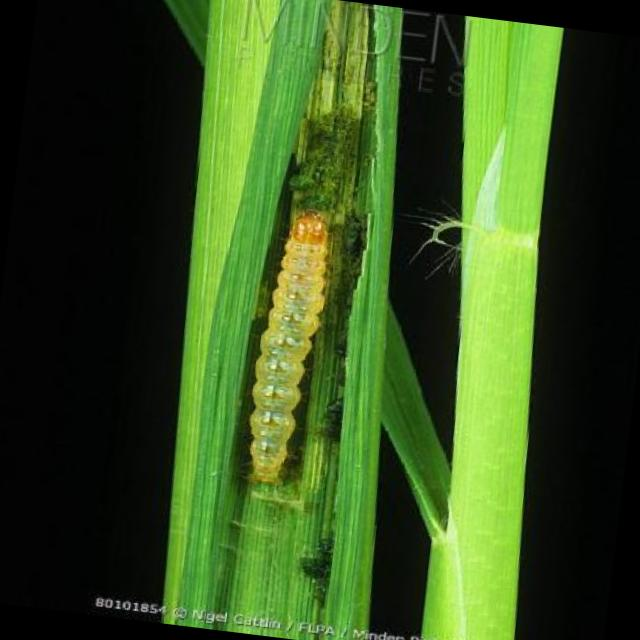leaf-folder: (207, 182, 364, 507)
